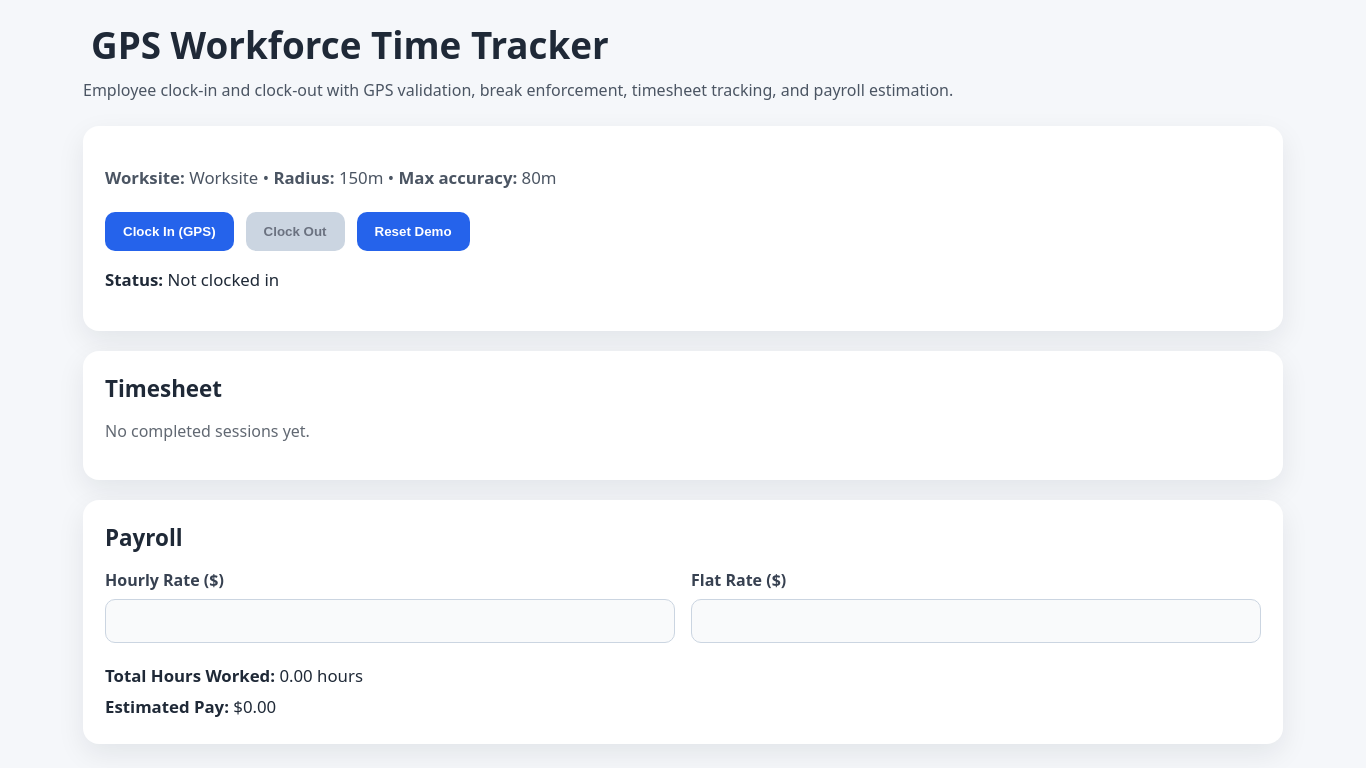
Test: clock in shows permission denied error
The width and height of the screenshot is (1366, 768).
Click the button "Clock In (GPS)" at coordinates (169, 231), box [105,212,234,251]
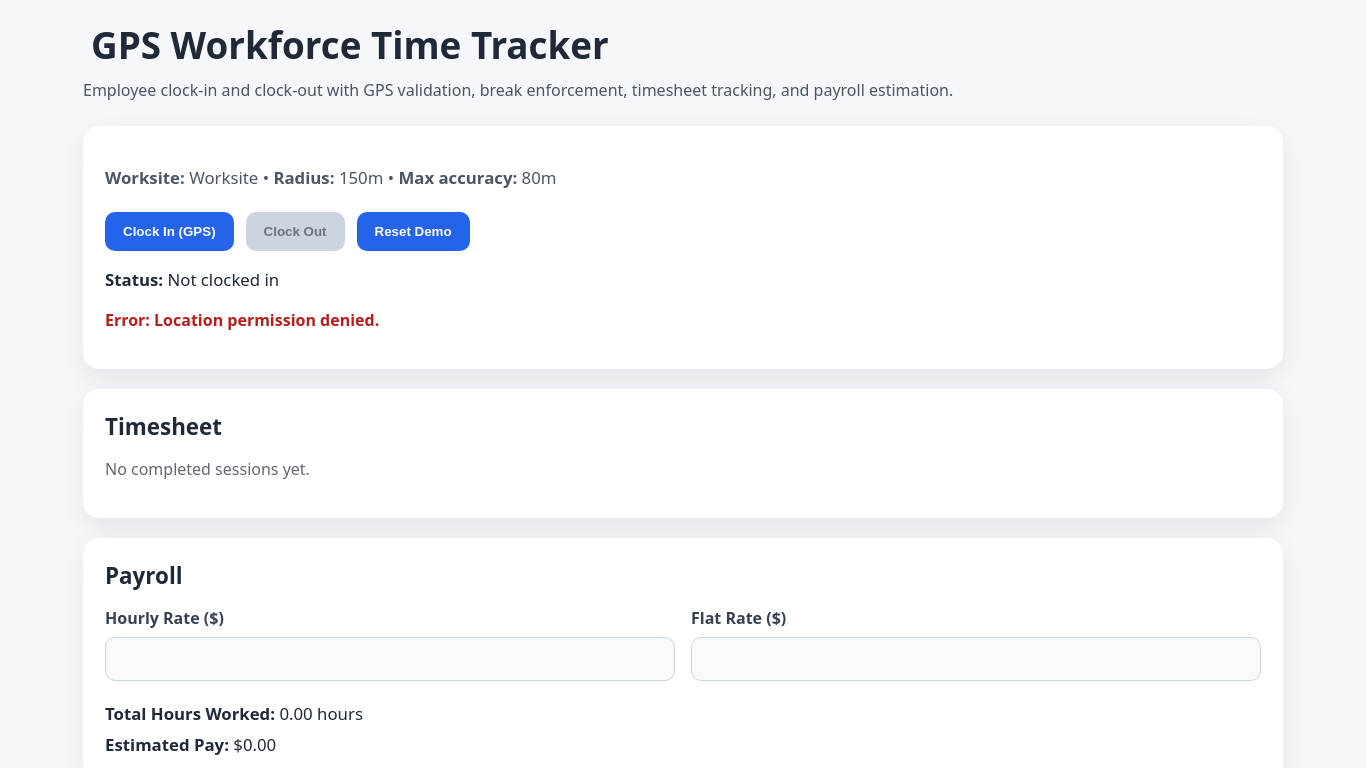
Expected: the text "Error: Location permission denied." is shown, [105,310,379,332]
